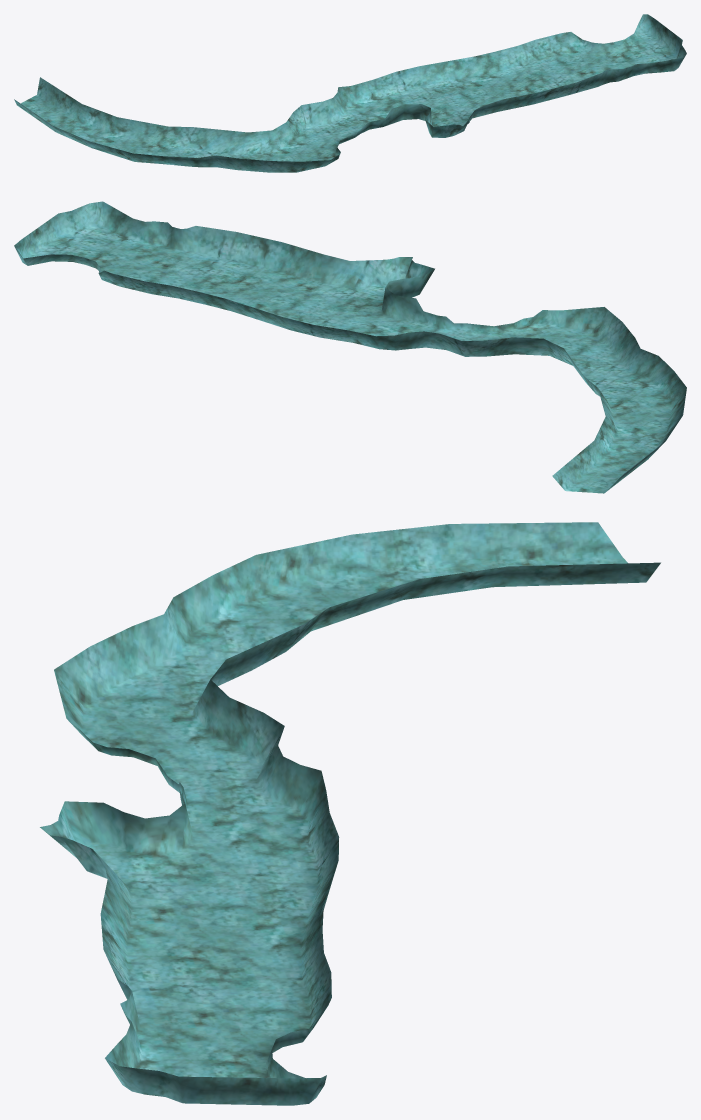
File: EKH_THRONE_PS_TH_RIVER_BOTTOM_01.fbx
3 views of the same model, one above another, from view 1: azimuth 30°, elevation 25°; view 2: azimuth 150°, elevation 25°; view 3: azimuth 270°, elevation 25° (orthographic). The views are drawn at different scales.
Parts seen in each view (by area): view 1: EKH_THRONE_PS_TH_RIVER_BOTTOM_01; view 2: EKH_THRONE_PS_TH_RIVER_BOTTOM_01; view 3: EKH_THRONE_PS_TH_RIVER_BOTTOM_01.
Part boxes in pixels (<box>): EKH_THRONE_PS_TH_RIVER_BOTTOM_01: <box>14,14,686,172</box>; EKH_THRONE_PS_TH_RIVER_BOTTOM_01: <box>14,201,686,493</box>; EKH_THRONE_PS_TH_RIVER_BOTTOM_01: <box>40,522,660,1105</box>.
Bounding box in the file's own units: 366297 × 10872 × 174428.
1 material, 1 textured.
